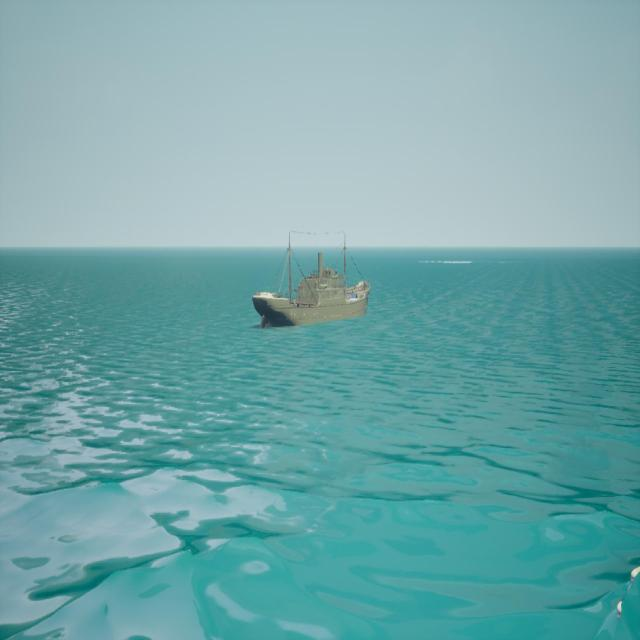fishing ship: (254, 232, 371, 329)
